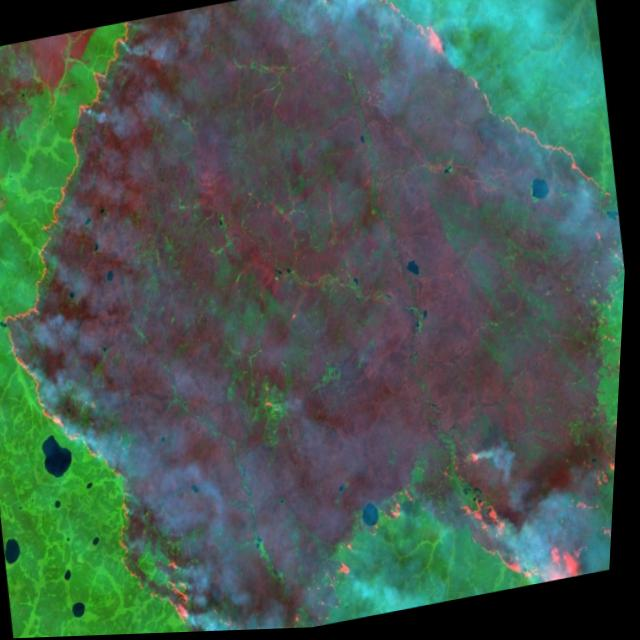fire: (0, 18, 236, 640), (286, 0, 630, 274), (407, 297, 627, 606)
